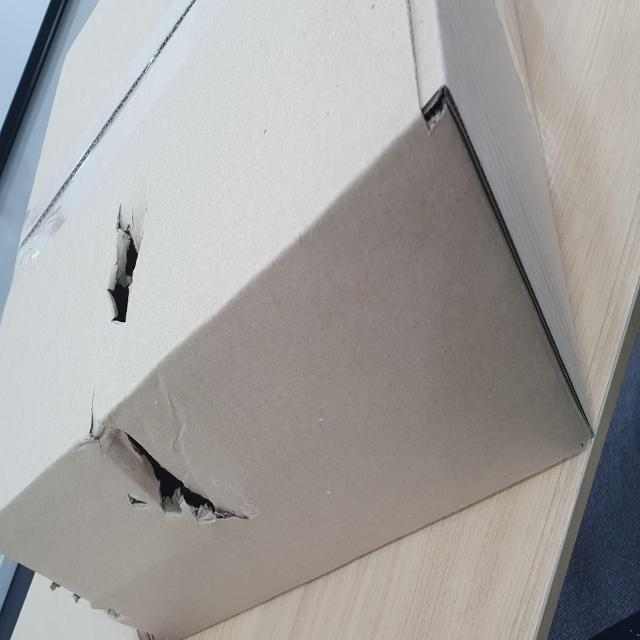damaged: (67, 198, 124, 408), (170, 192, 252, 257)
